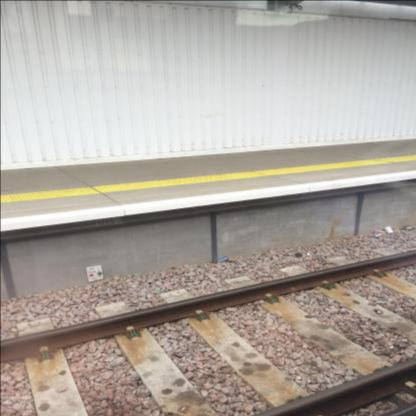Can: (372, 233, 381, 238)
Cup: (216, 256, 229, 263), (384, 226, 394, 234)
Lid: (294, 252, 302, 256)
Straw: (391, 227, 396, 228)
Unlabeled litter: (374, 230, 386, 235)
